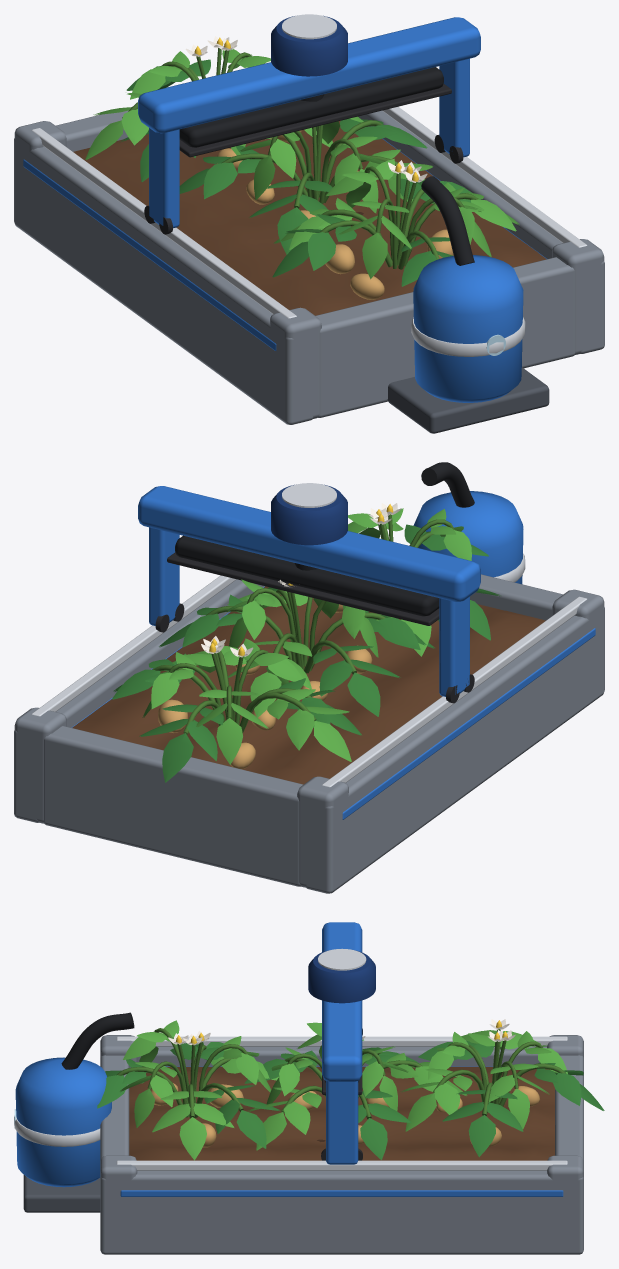
Rendered from AutoBedT2.fbx.
The picture shows the model from 3 angles, top to bottom: view 1: azimuth 30°, elevation 25°; view 2: azimuth 150°, elevation 25°; view 3: azimuth 270°, elevation 25°; orthographic projection. The views are drawn at different scales.
Parts seen in each view (by area): view 1: Body__Steel, Body__Soil, Nozzle__Blue, Body__Blue, Body__Chrome, Nozzle__Black, Bush/Plant0__Leaf, Body__MetalDark, Bush/Plant1__LeafDark, Bush/Plant1__Leaf, Bush/Plant0__Stem, Bush/Plant0__LeafDark (+9 smaller); view 2: Body__Steel, Body__Soil, Nozzle__Blue, Body__Blue, Bush/Plant2__Leaf, Body__Chrome, Nozzle__Black, Bush/Plant1__LeafDark, Bush/Plant2__LeafDark, Bush/Plant1__Leaf, Nozzle__BlueDark, Nozzle__Rubber (+8 smaller); view 3: Body__Steel, Body__Soil, Body__Blue, Body__Chrome, Nozzle__Blue, Bush/Plant0__Leaf, Bush/Plant2__Leaf, Bush/Plant1__Leaf, Bush/Plant2__LeafDark, Bush/Plant0__LeafDark, Bush/Plant0__Stem, Nozzle__BlueDark (+7 smaller).
Boxes of the visible parts, x1,y1,x2,y2 form: Body__Steel: (14, 107, 604, 424); Body__Soil: (73, 120, 546, 315); Nozzle__Blue: (138, 17, 480, 228); Body__Blue: (23, 138, 546, 402); Body__Chrome: (31, 107, 587, 356); Nozzle__Black: (179, 67, 443, 147); Bush/Plant0__Leaf: (273, 158, 519, 279); Body__MetalDark: (387, 367, 549, 433); Bush/Plant1__LeafDark: (179, 118, 427, 254); Bush/Plant1__Leaf: (239, 116, 432, 213); Bush/Plant0__Stem: (319, 166, 479, 269); Bush/Plant0__LeafDark: (272, 178, 480, 286); Body__Steel: (14, 574, 604, 893); Body__Soil: (72, 586, 545, 784); Nozzle__Blue: (138, 486, 480, 696); Body__Blue: (71, 491, 595, 819); Bush/Plant2__Leaf: (142, 638, 351, 764); Body__Chrome: (31, 553, 586, 787); Nozzle__Black: (175, 535, 439, 616); Bush/Plant1__LeafDark: (159, 594, 434, 716); Bush/Plant2__LeafDark: (112, 653, 361, 782); Bush/Plant1__Leaf: (227, 579, 378, 717); Nozzle__BlueDark: (271, 484, 347, 545); Nozzle__Rubber: (155, 552, 474, 703); Body__Steel: (100, 1035, 583, 1254); Body__Soil: (129, 1066, 554, 1160); Body__Blue: (15, 1057, 563, 1196); Body__Chrome: (14, 1036, 567, 1170); Nozzle__Blue: (322, 922, 362, 1164); Bush/Plant0__Leaf: (120, 1020, 278, 1160); Bush/Plant2__Leaf: (400, 1030, 567, 1131); Bush/Plant1__Leaf: (247, 1022, 467, 1150); Bush/Plant2__LeafDark: (418, 1041, 604, 1157); Bush/Plant0__LeafDark: (97, 1042, 280, 1148); Bush/Plant0__Stem: (116, 1028, 248, 1118); Nozzle__BlueDark: (308, 950, 375, 1003).
Bounding box in the file's own units: 4.1 × 3.64 × 7.33.
